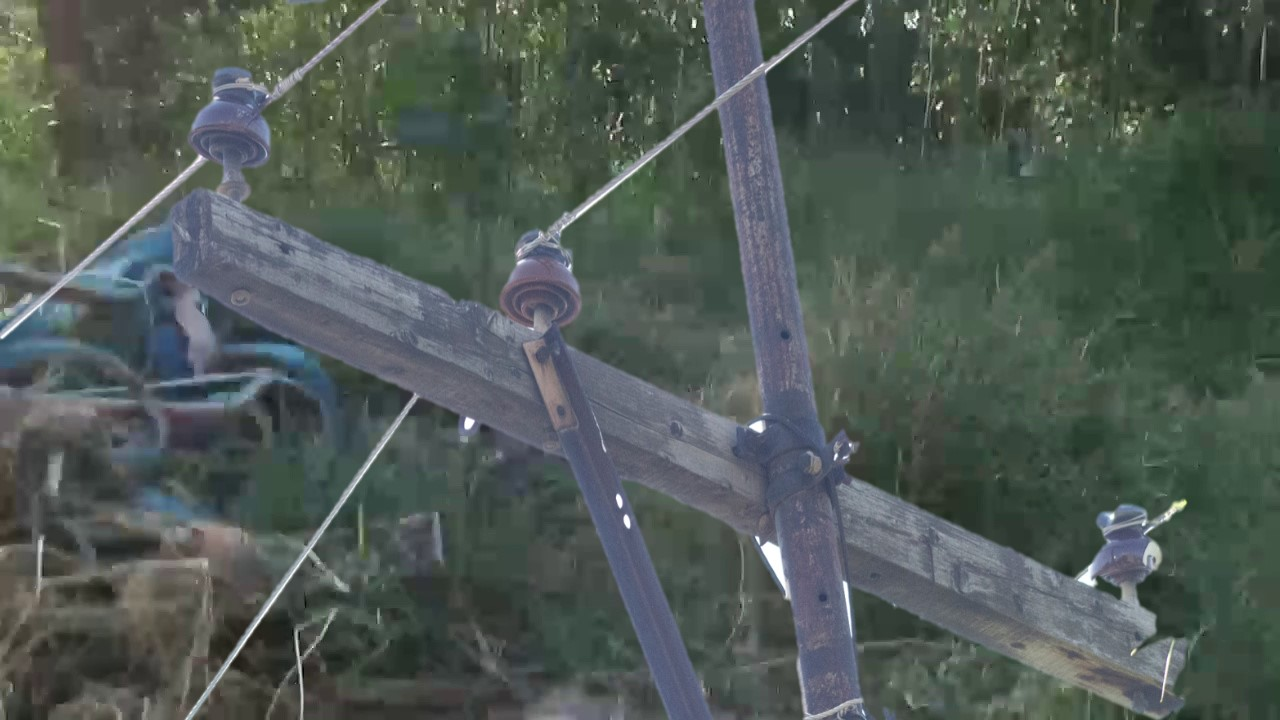defect_pin: (1079, 498, 1172, 593)
insulator_pin: (497, 224, 590, 336), (189, 61, 277, 175)
